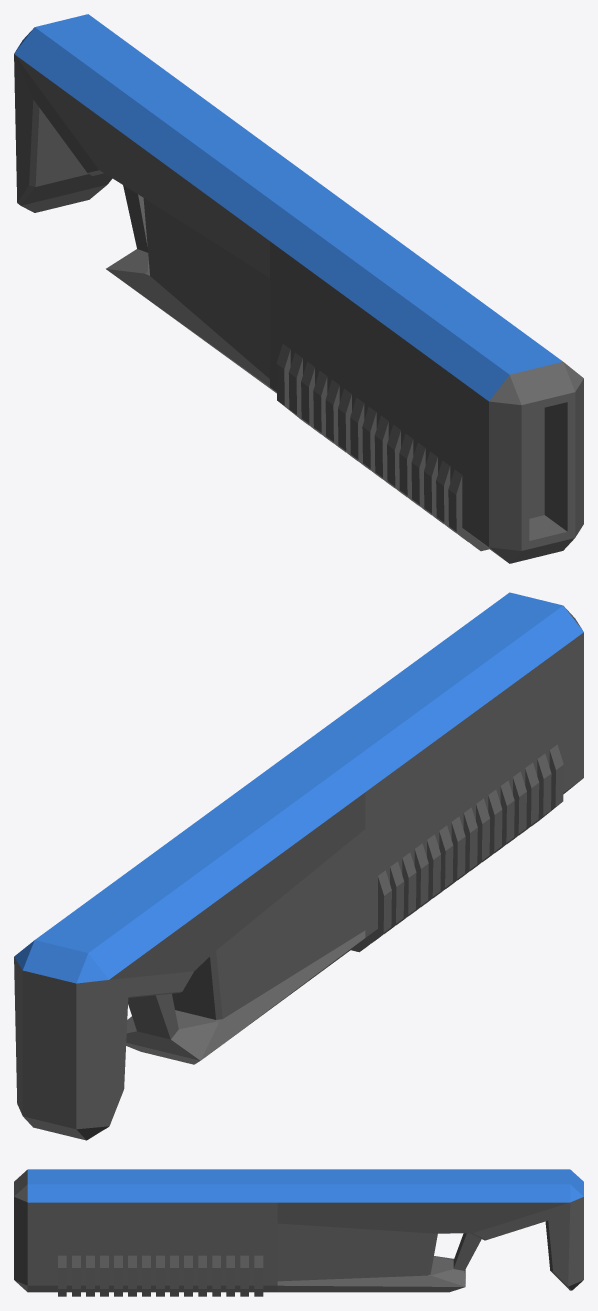
File: Player_rifle.glb
The picture shows the model from 3 angles, top to bottom: view 1: azimuth 30°, elevation 25°; view 2: azimuth 150°, elevation 25°; view 3: azimuth 270°, elevation 25°; orthographic projection. The views are drawn at different scales.
Visible parts, largest first — view 1: Cube; view 2: Cube; view 3: Cube.
Part boxes in pixels (x1,y1,x2,y2): Cube: (14,14,583,563); Cube: (14,592,583,1140); Cube: (14,1169,583,1296).
Size of the model in its own units: 0.1808 by 0.3136 by 1.45.
